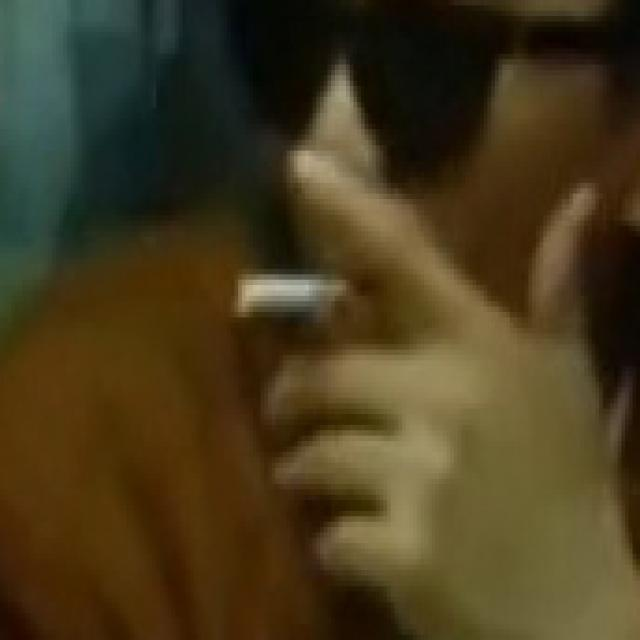smoking: (233, 274, 357, 318)
